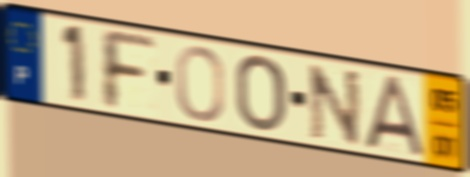1: (59, 23, 89, 105)
A: (362, 72, 426, 158)
F: (96, 25, 159, 114)
N: (305, 62, 363, 150)
O: (233, 52, 289, 134), (173, 43, 227, 124)
